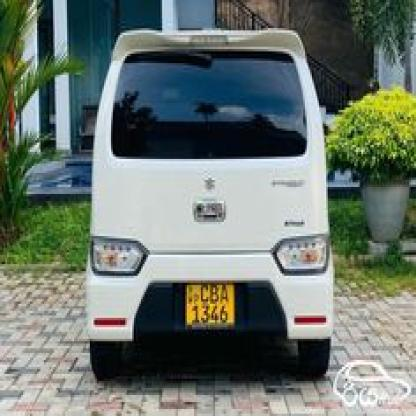car back: (84, 21, 333, 380)
number plate: (185, 281, 234, 327)
